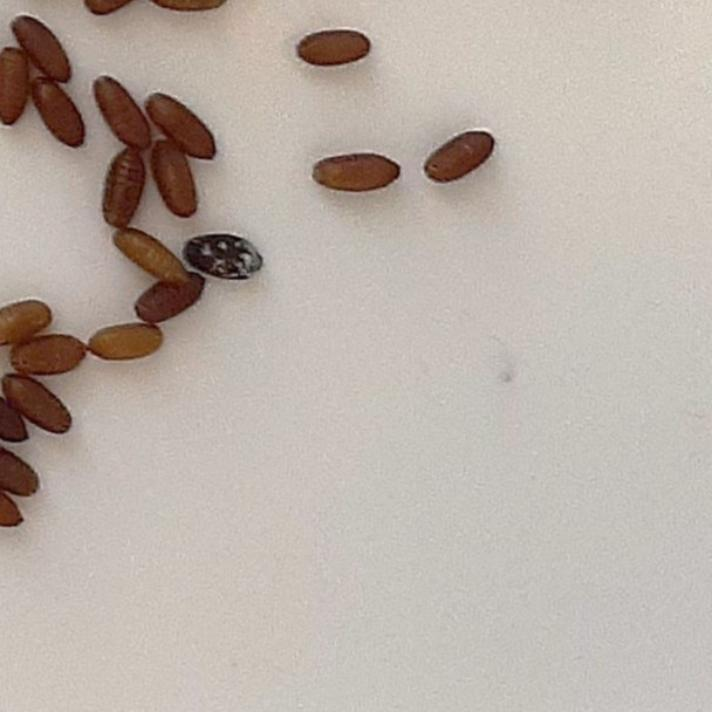pupae: (138, 92, 226, 160), (90, 71, 160, 155), (299, 147, 413, 197), (420, 124, 500, 192), (148, 132, 204, 224), (27, 77, 91, 157), (128, 264, 212, 324), (180, 229, 268, 286), (9, 11, 77, 82), (1, 376, 80, 436), (107, 228, 189, 284), (93, 138, 141, 228), (8, 326, 90, 377), (284, 27, 380, 66), (87, 324, 167, 366), (0, 296, 60, 344), (0, 43, 34, 125), (0, 444, 44, 499), (0, 390, 32, 455)
